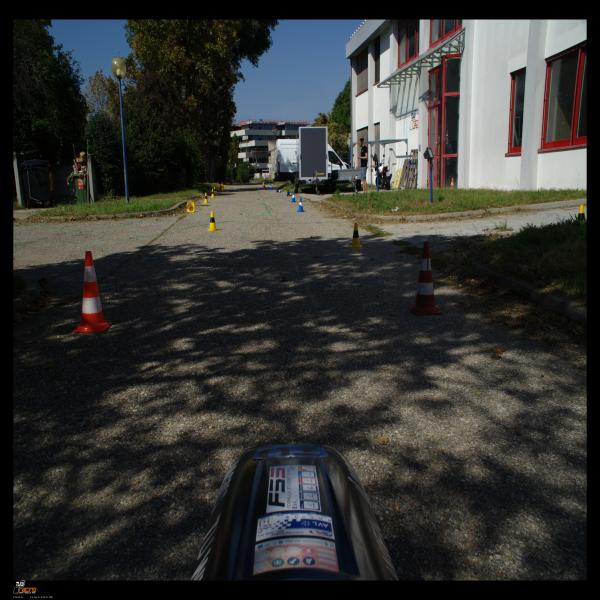blue_cone: (297, 198, 305, 212), (291, 192, 296, 202), (286, 190, 292, 196), (276, 188, 282, 192), (269, 184, 273, 190), (263, 183, 266, 188)
large_orange_cone: (72, 250, 112, 332), (409, 242, 442, 316)
orange_cone: (262, 181, 264, 187), (222, 182, 222, 185)
yellow_cone: (349, 223, 363, 249), (207, 212, 219, 231), (203, 192, 209, 204), (187, 202, 194, 212), (211, 188, 215, 198), (218, 186, 222, 192), (214, 186, 216, 194), (222, 184, 224, 189)
